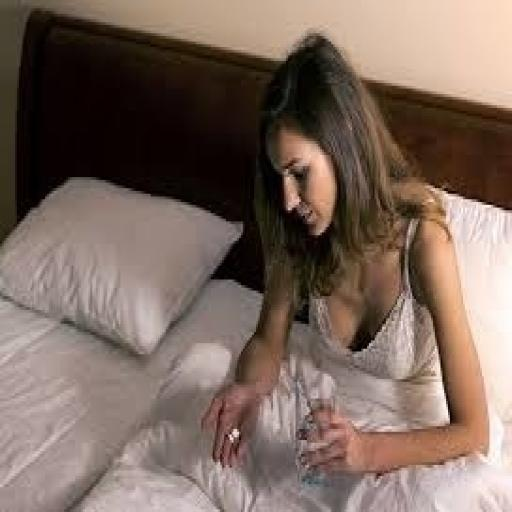sleeping: (200, 28, 493, 501)
